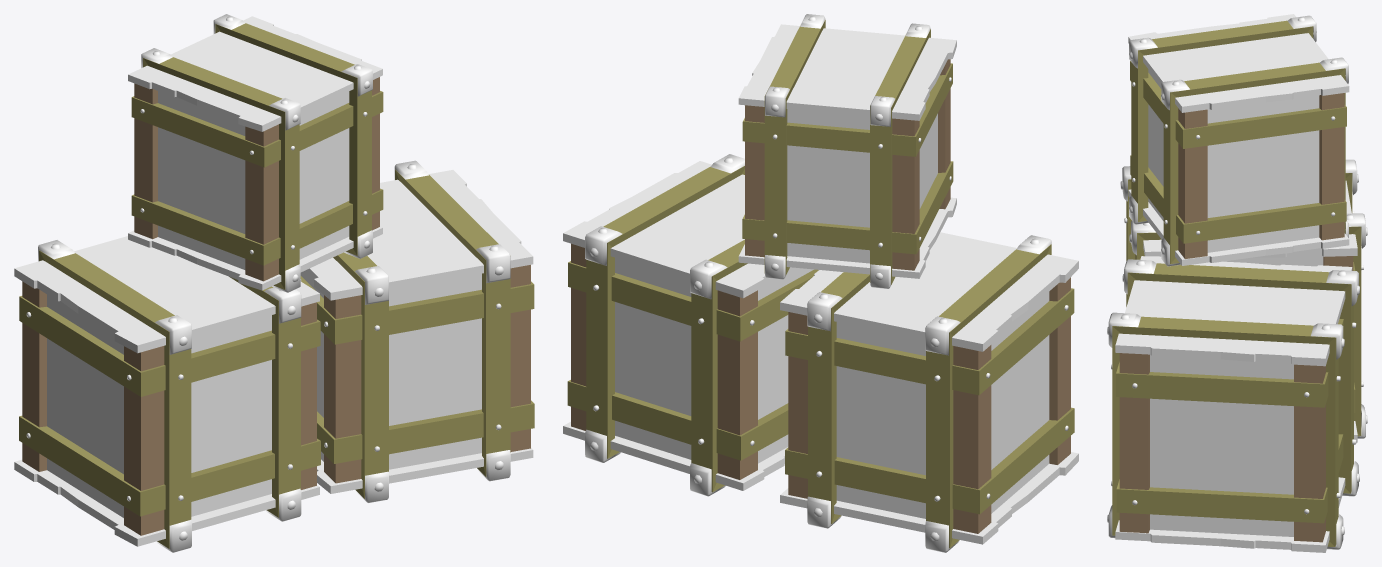
Rendered from crate_stack_three.glb.
3 renders of one model, left to right at view 1: azimuth 30°, elevation 25°; view 2: azimuth 150°, elevation 25°; view 3: azimuth 270°, elevation 25°, orthographic. The views are drawn at different scales.
Visible parts, largest first — view 1: Cube017 (×3), Cube017_1 (×3); view 2: Cube017 (×3), Cube017_1 (×3); view 3: Cube017 (×3), Cube017_1 (×3).
Boxes of the visible parts, <box> form: Cube017 (×3): <box>14,16,534,548</box>; Cube017_1 (×3): <box>26,14,510,552</box>; Cube017 (×3): <box>563,20,1078,548</box>; Cube017_1 (×3): <box>585,14,1068,552</box>; Cube017 (×3): <box>1112,14,1361,552</box>; Cube017_1 (×3): <box>1107,15,1367,549</box>.
Size of the model in its own units: 1.83 by 1.69 by 0.9923.
